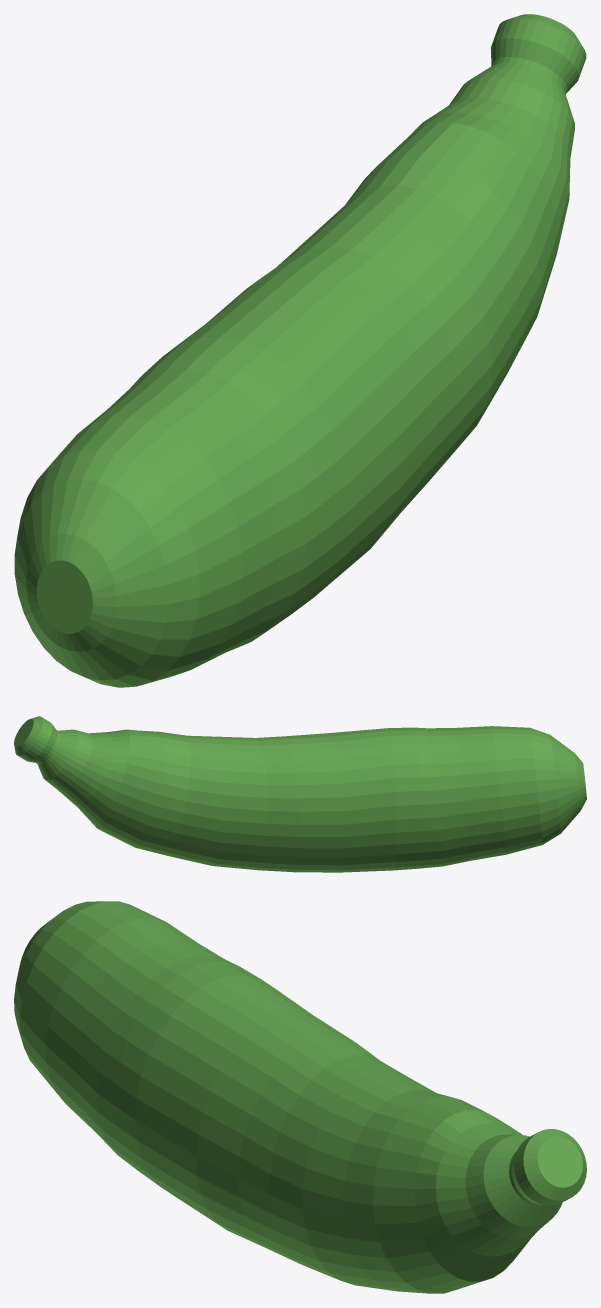
File: zucchinni.fbx
The picture shows the model from 3 angles, top to bottom: view 1: azimuth 30°, elevation 25°; view 2: azimuth 150°, elevation 25°; view 3: azimuth 270°, elevation 25°; orthographic projection. The views are drawn at different scales.
Visible parts, largest first — view 1: Cylinder; view 2: Cylinder; view 3: Cylinder.
Boxes of the visible parts, <box> form: Cylinder: <box>14,14,586,687</box>; Cylinder: <box>14,716,586,872</box>; Cylinder: <box>14,901,586,1293</box>.
Bounding box in the file's own units: 696 × 258 × 512.
